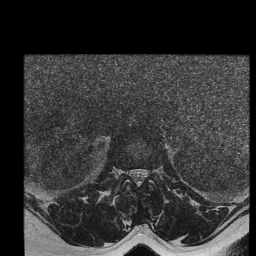CCS_normal: (134, 163, 142, 191)
LFS_stenosis: (149, 160, 155, 180)
LLS_normal: (142, 163, 149, 185)
RFS_stenosis: (121, 163, 128, 180)
RLS_normal: (128, 164, 134, 185)
